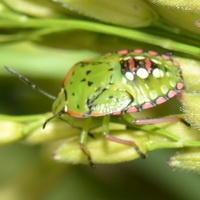insect: (5, 49, 189, 166)
